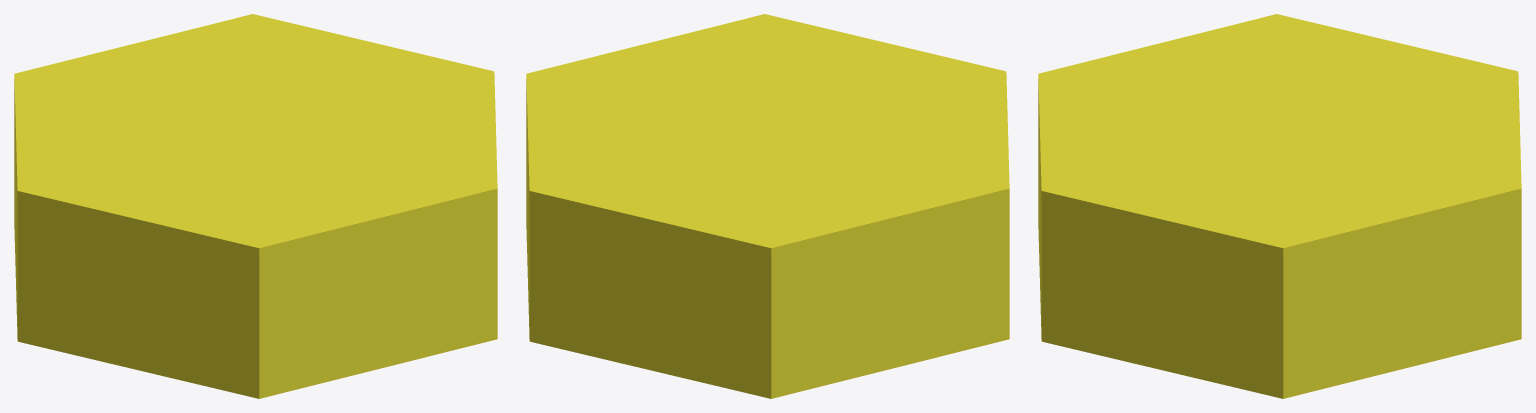
Rendered from hexagone_jaune.dae.
3 renders of one model, left to right at view 1: azimuth 30°, elevation 25°; view 2: azimuth 150°, elevation 25°; view 3: azimuth 270°, elevation 25°, orthographic.
Visible parts, largest first — view 1: Hexagone Jaune; view 2: Hexagone Jaune; view 3: Hexagone Jaune.
Part boxes in pixels (x1=…): Hexagone Jaune: x1=14, y1=14, x2=497, y2=398; Hexagone Jaune: x1=526, y1=14, x2=1009, y2=398; Hexagone Jaune: x1=1038, y1=14, x2=1521, y2=398.
Size of the model in its own units: 0.05 by 0.0436 by 0.015.
